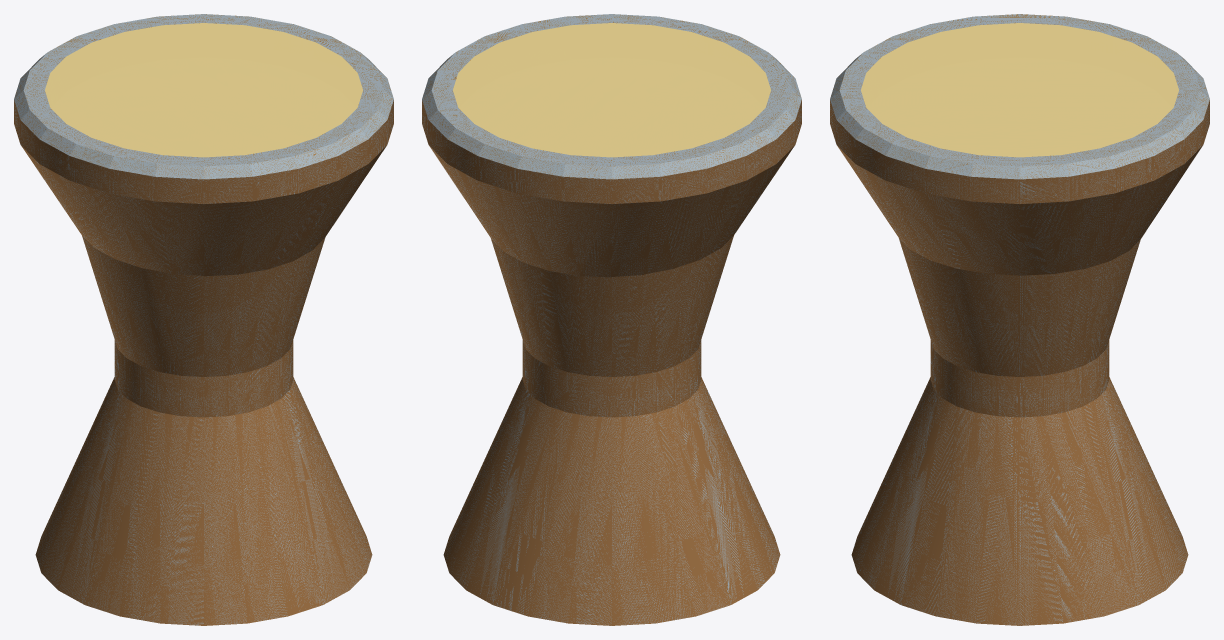
The model's file is instr14.fbx.
3 renders of one model, left to right at view 1: azimuth 30°, elevation 25°; view 2: azimuth 150°, elevation 25°; view 3: azimuth 270°, elevation 25°, orthographic.
Visible parts, largest first — view 1: Darbuka1; view 2: Darbuka1; view 3: Darbuka1.
Part boxes in pixels (bbox=[...]): Darbuka1: bbox=[14, 14, 393, 625]; Darbuka1: bbox=[422, 14, 801, 625]; Darbuka1: bbox=[830, 14, 1209, 625].
Size of the model in its own units: 130 by 175 by 130.
